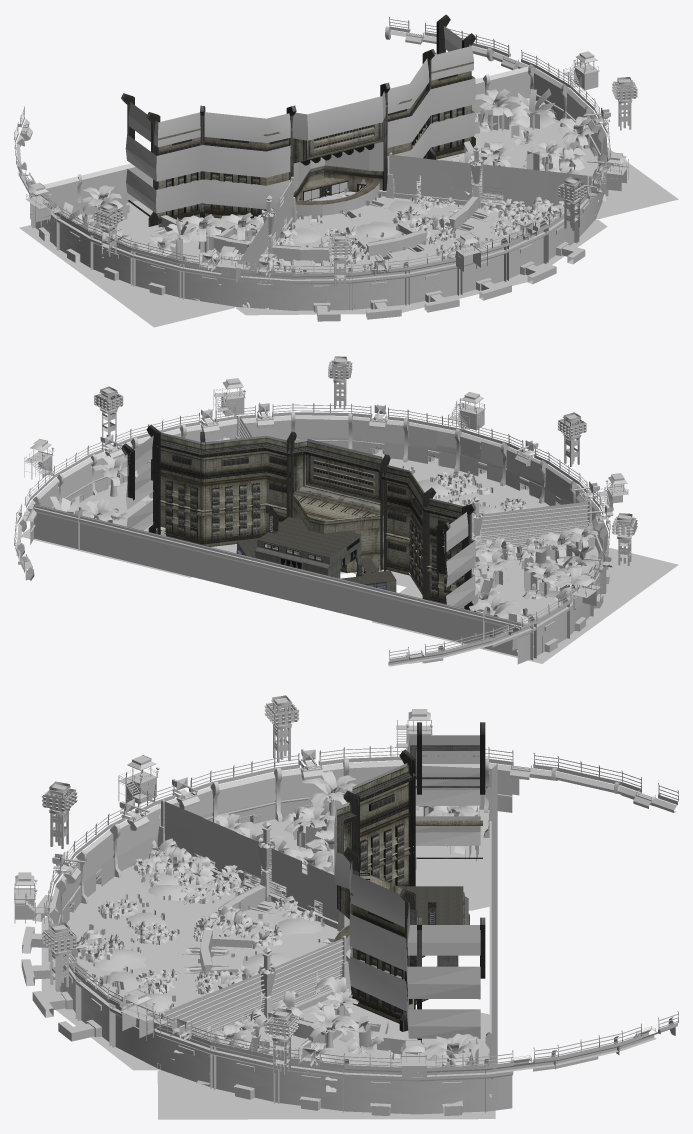
The model's file is BreedingNest_World.obj.
3 renders of one model, top to bottom at view 1: azimuth 30°, elevation 25°; view 2: azimuth 150°, elevation 25°; view 3: azimuth 270°, elevation 25°, orthographic. The views are drawn at different scales.
Visible parts, largest first — view 1: BN_Lab_out_BN_Nest_out, BN_Nest_out_alpha, BN_Nest_out, BN_Nest_out,BN_Nest_out_hill, BN_Nest_in_alpha, BN_Nest_out_Hill_alpha; view 2: BN_Lab_out_BN_Nest_out, BN_Nest_out_alpha, BN_Nest_out, BN_Nest_out,BN_Nest_out_hill, BN_Lab_in, BN_Nest_in_alpha, BN_Nest_out_Hill_alpha; view 3: BN_Lab_out_BN_Nest_out, BN_Nest_out, BN_Nest_out_alpha, BN_Nest_out,BN_Nest_out_hill, BN_Nest_in_alpha, BN_Nest_out_Hill_alpha, BN_Lab_in.
Boxes of the visible parts, box(x1,y1,x2,y2) form: BN_Lab_out_BN_Nest_out: box(14, 14, 637, 321); BN_Nest_out_alpha: box(29, 25, 635, 282); BN_Nest_out: box(41, 88, 605, 306); BN_Nest_out,BN_Nest_out_hill: box(19, 117, 678, 327); BN_Nest_in_alpha: box(242, 188, 568, 309); BN_Nest_out_Hill_alpha: box(291, 200, 554, 248); BN_Lab_out_BN_Nest_out: box(14, 358, 637, 666); BN_Nest_out_alpha: box(34, 356, 634, 650); BN_Nest_out: box(50, 415, 598, 652); BN_Nest_out,BN_Nest_out_hill: box(21, 454, 678, 663); BN_Lab_in: box(236, 506, 396, 592); BN_Nest_in_alpha: box(402, 466, 581, 547); BN_Nest_out_Hill_alpha: box(418, 479, 547, 543); BN_Lab_out_BN_Nest_out: box(14, 698, 678, 1115); BN_Nest_out: box(83, 771, 479, 1107); BN_Nest_out_alpha: box(44, 695, 519, 1111); BN_Nest_out,BN_Nest_out_hill: box(41, 801, 495, 1119); BN_Nest_in_alpha: box(70, 838, 350, 1039); BN_Nest_out_Hill_alpha: box(84, 866, 320, 1018); BN_Lab_in: box(398, 886, 469, 1004).
Bounding box in the file's own units: 155 × 32.77 × 128.
